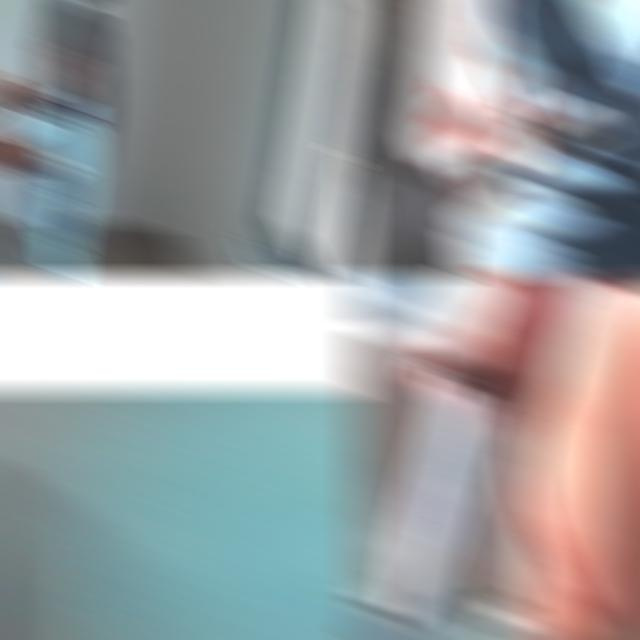Knife: (349, 94, 616, 278), (385, 362, 505, 624)
Knife_Handle: (349, 0, 618, 278), (364, 272, 556, 624)
